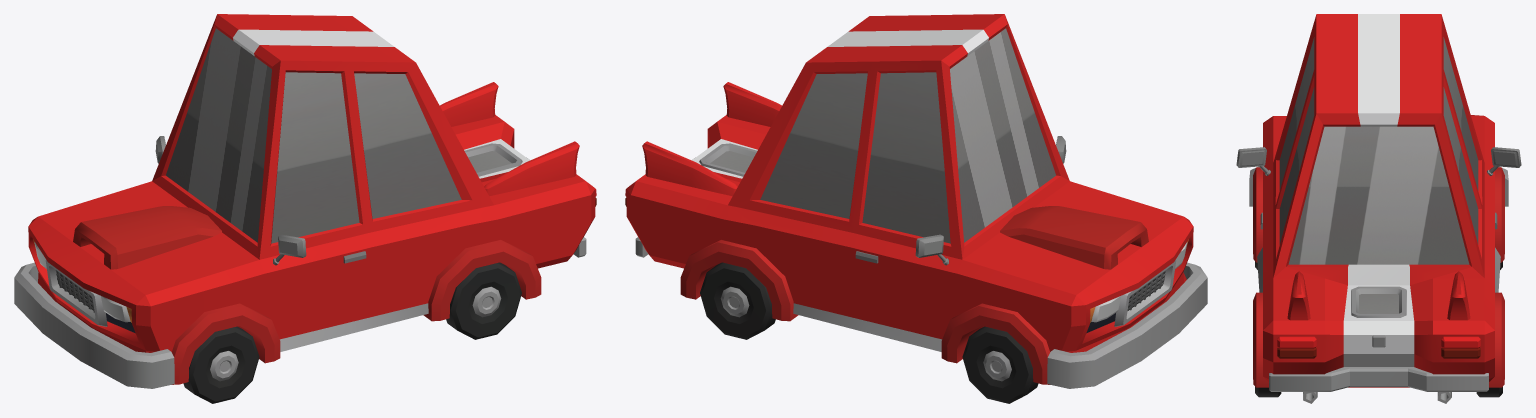
Rendered from Car_11_V.gltf.
3 renders of one model, left to right at view 1: azimuth 30°, elevation 25°; view 2: azimuth 150°, elevation 25°; view 3: azimuth 270°, elevation 25°, orthographic.
Parts seen in each view (by area): view 1: Car_11_V, RL, FL; view 2: Car_11_V, RR, FR; view 3: Car_11_V.
Boxes of the visible parts, x1,y1,x2,y2 form: Car_11_V: (14,14,596,388); RL: (446,262,521,339); FL: (183,326,259,403); Car_11_V: (625,14,1207,388); RR: (700,262,775,339); FR: (962,326,1038,403); Car_11_V: (1236,14,1521,403).
Size of the model in its own units: 3.58 by 2.1 by 1.85.
3 materials, 3 textured.
